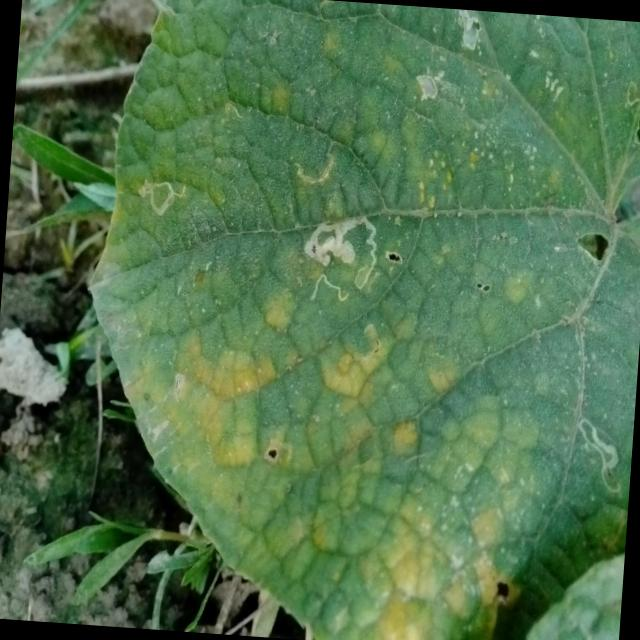cucumber_downy: (97, 0, 640, 623)
